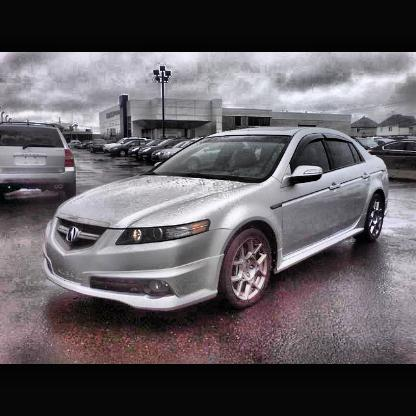Acura TL Type-S 2008: (44, 127, 389, 317)
